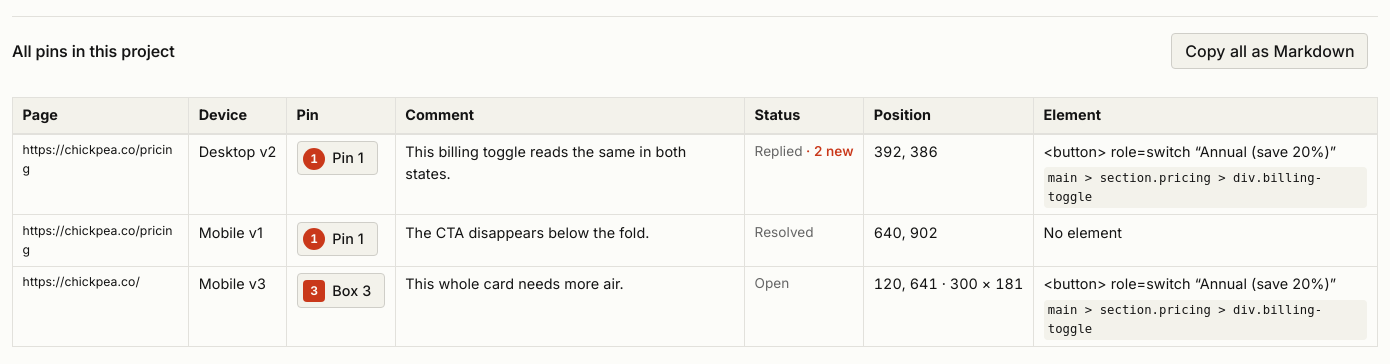
rectangles in the table (D079) › Copy all counts the box among the rows it hands to the Markdown renderer
Step 1. Click the button "Copy all as Markdown" → (1270, 51), box x1=1171 y1=33 x2=1368 y2=69
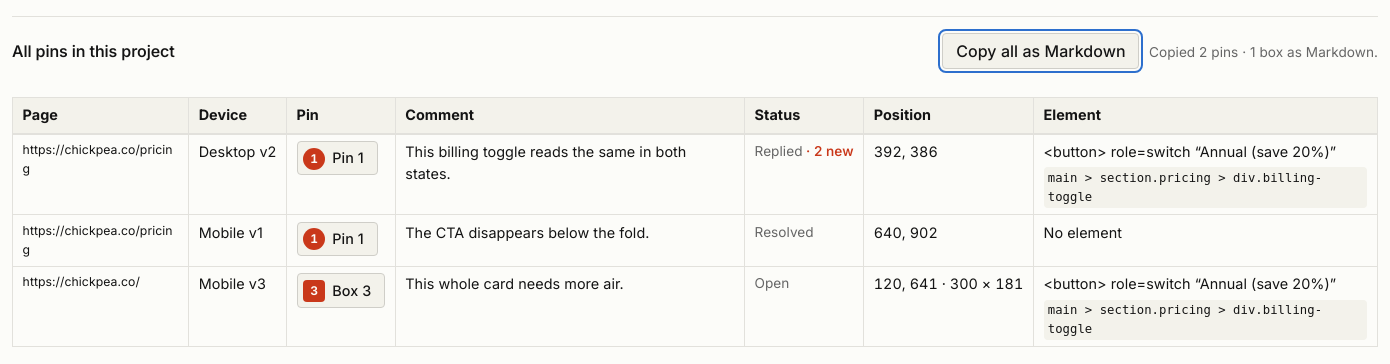
Expected: the message reads "Copied 2 pins · 1 box as Markdown.", x1=1149 y1=44 x2=1378 y2=60
